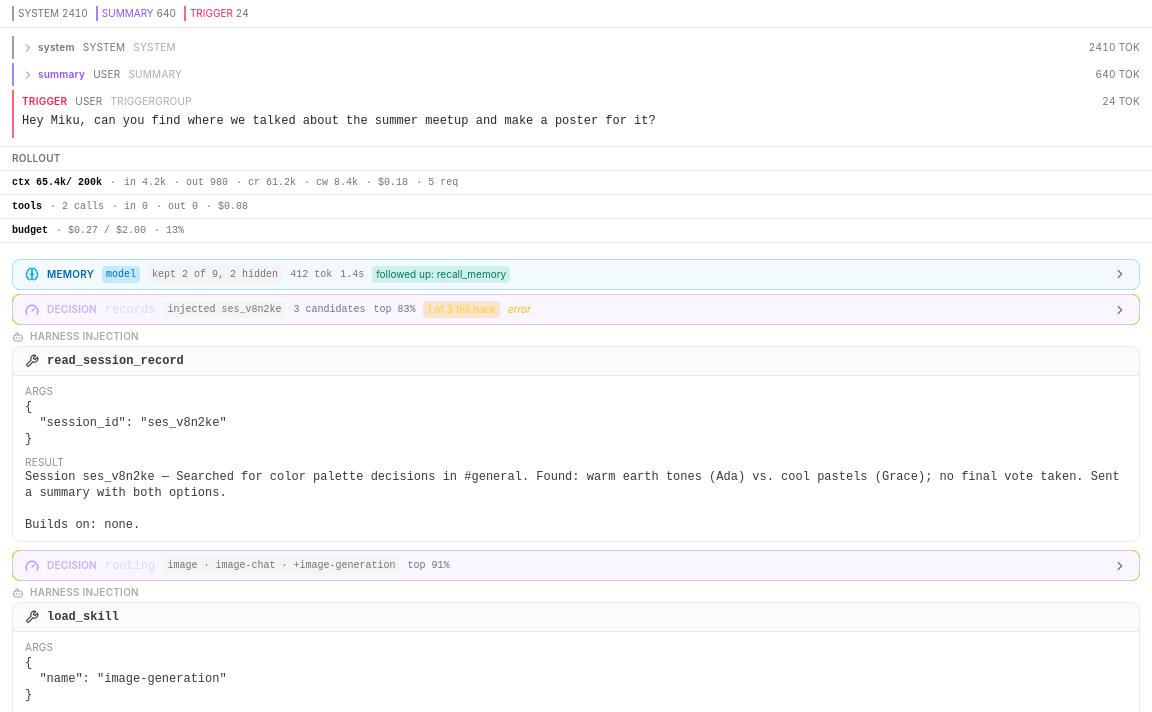
SessionView renders the memory retrieval card with kept, dropped, hidden and cut
The image size is (1152, 712).
Click the button that starts with "Memory": x=71, y=274 13,260 -> 1139,289
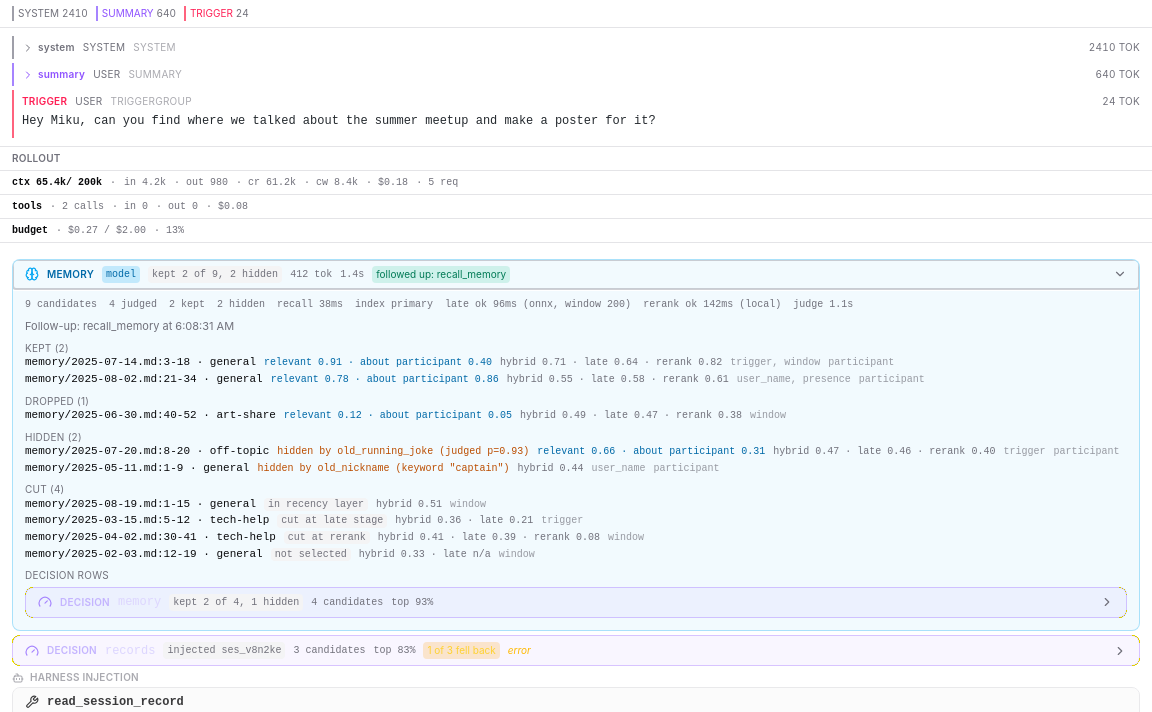
Result: the element with test id "memory-kept" shows "relevant 0.91" at 264,357 -> 492,368
Result: the element with test id "memory-dropped" shows "relevant 0.12" at 284,410 -> 512,421
Result: the element with test id "memory-hidden" shows "hidden by old_running_joke (judged p=0.93)" at 277,446 -> 529,457
